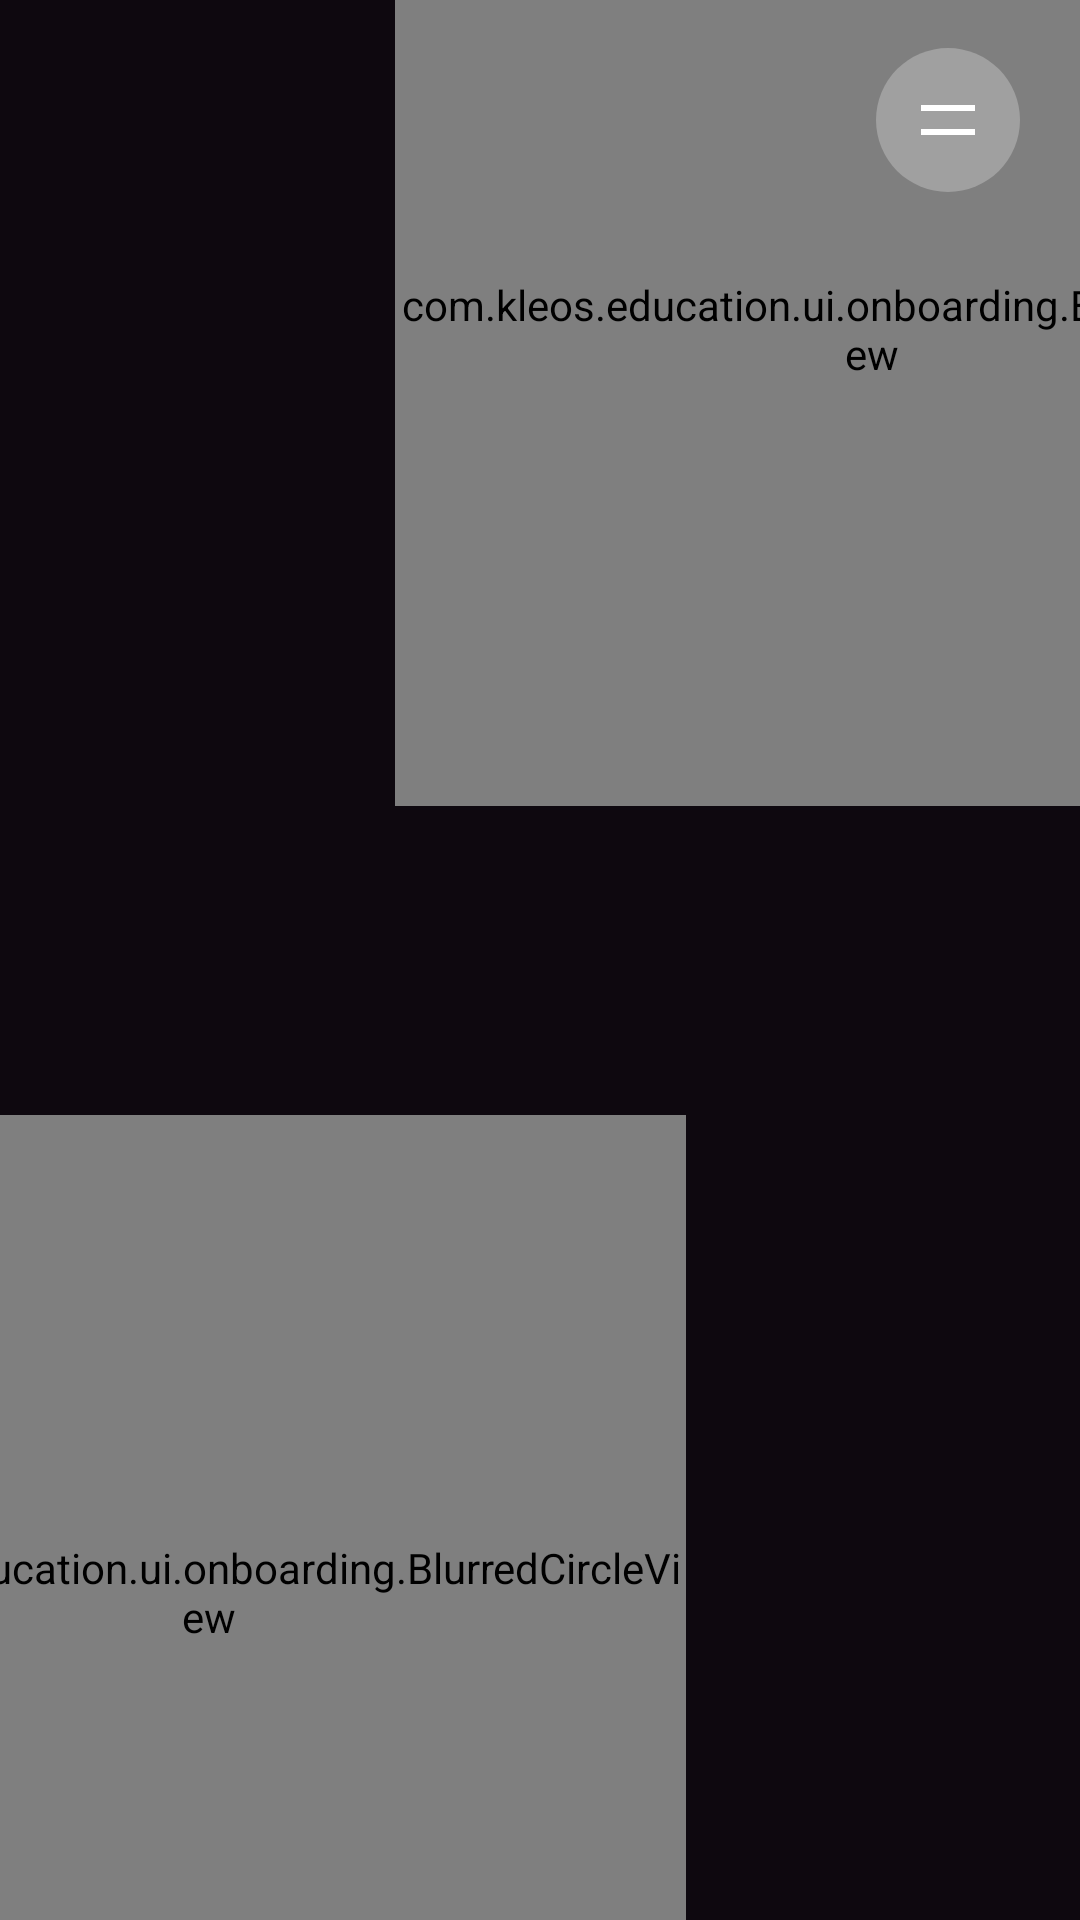

Point at icon controls on the screen. Image size 1080px×1920px, points as (x,y).
Menu: (948,120)
